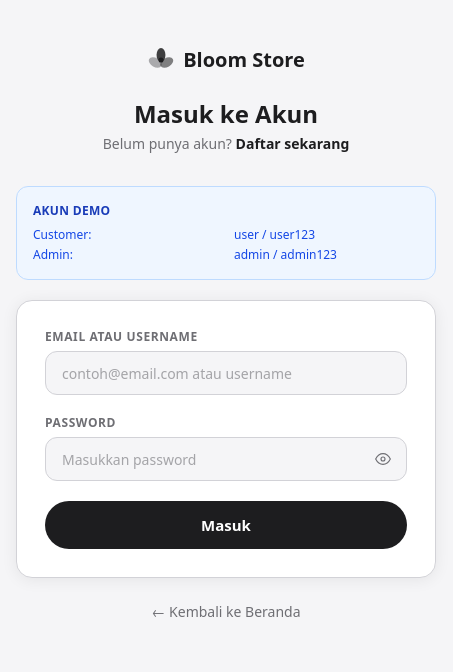
TC-UI: Modul Autentikasi › TC-UI-02: Login gagal dengan password yang salah
Type "user" into the field with placeholder "contoh@email.com atau username".
click(226, 373); type("user")  # box [45,351,407,395]
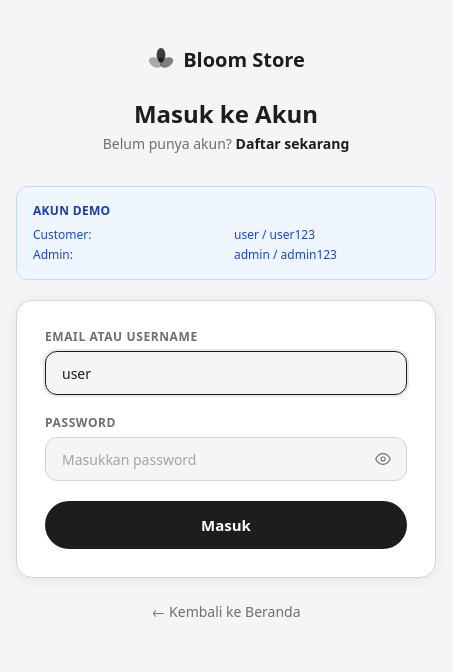
Type "wrongpassword123" into the password field with placeholder "Masukkan password".
click(226, 459); type("wrongpassword123")  # box [45,437,407,481]
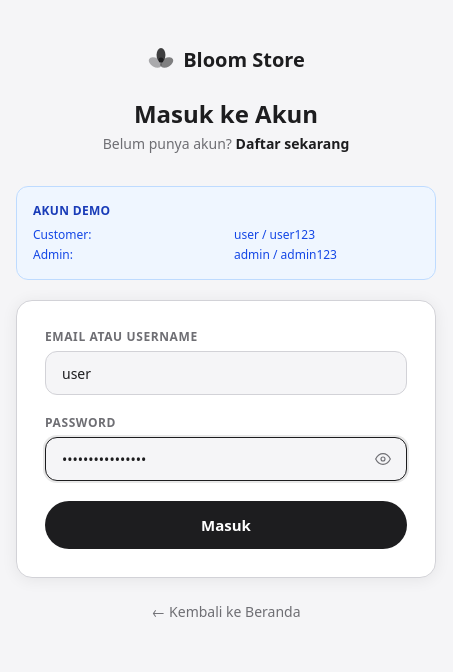
Click the submit button.
click(226, 525)  # box [45,501,407,549]
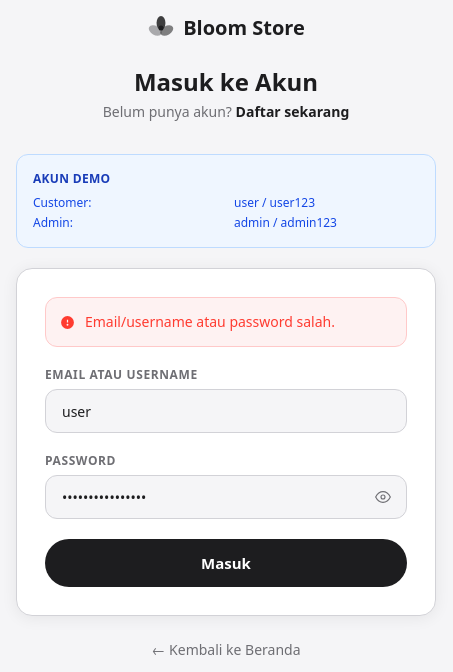
Expected: the element showing "Email/username atau password salah." is shown, [45,297,407,347]
